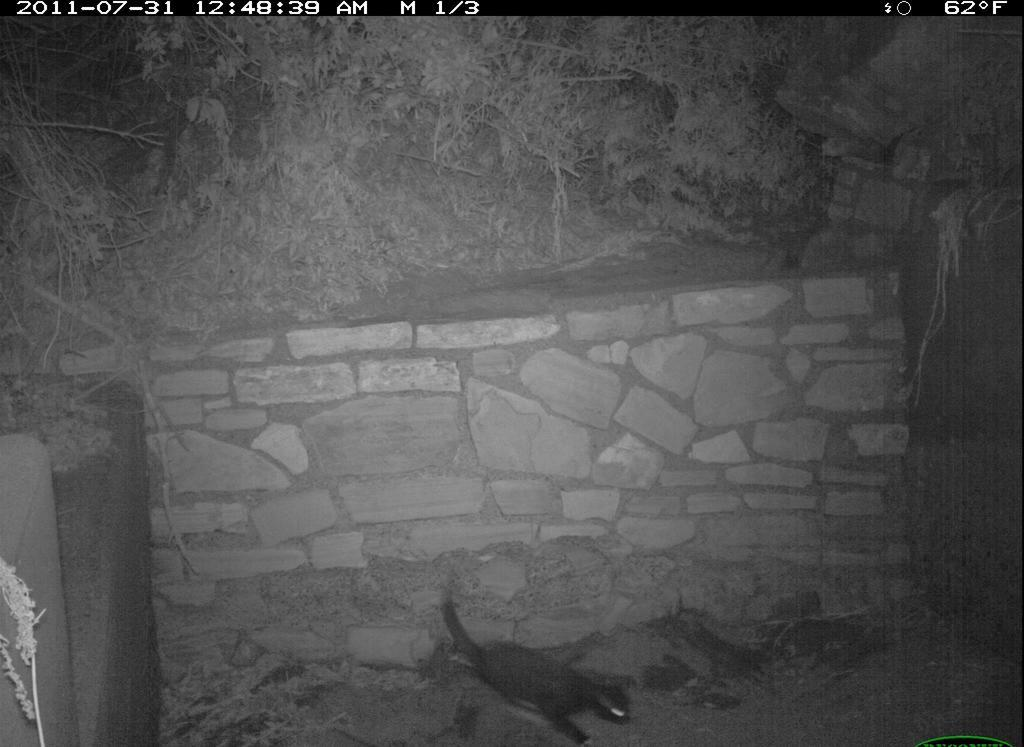cat: (429, 584, 639, 747)
